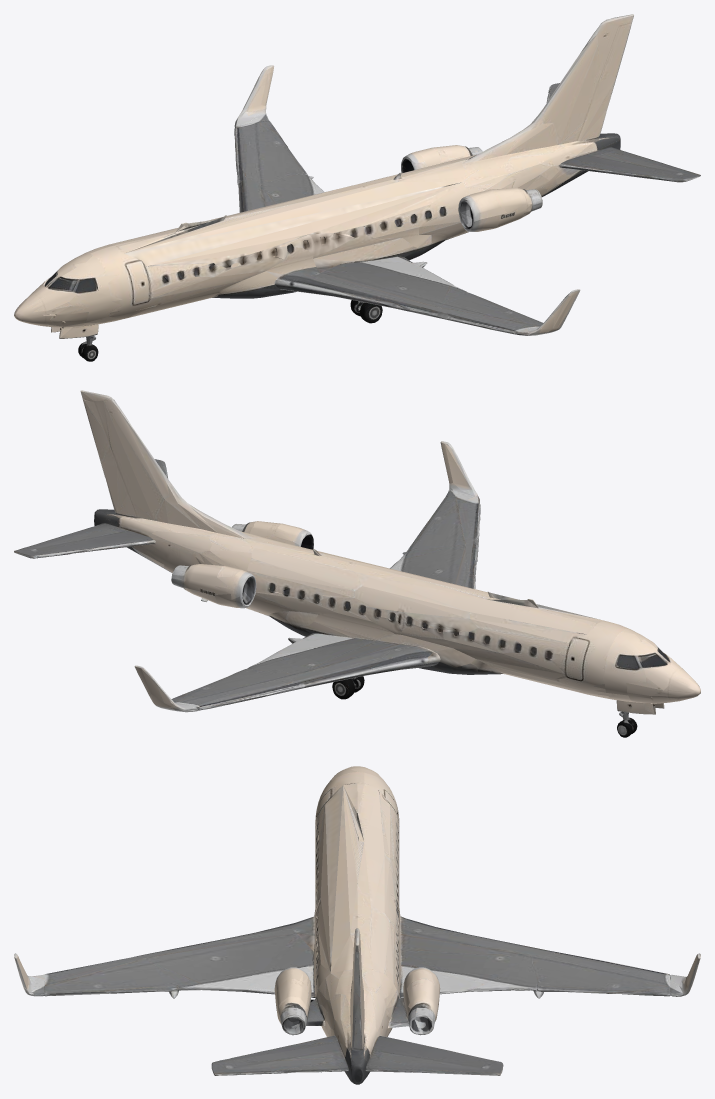
Rendered from avion.glb.
3 renders of one model, top to bottom at view 1: azimuth 30°, elevation 25°; view 2: azimuth 150°, elevation 25°; view 3: azimuth 270°, elevation 25°, orthographic. The views are drawn at different scales.
Bounding box in the file's own units: 1.9 × 0.6282 × 1.63.
Materials: 1 (1 with a texture image).
